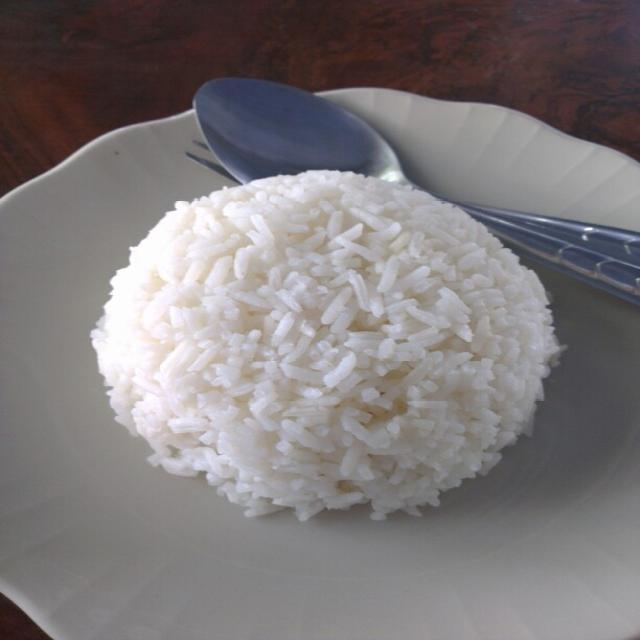rice: (93, 171, 558, 519)
